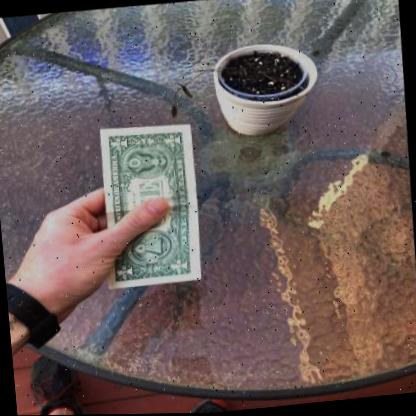one-back: (97, 122, 207, 290)
